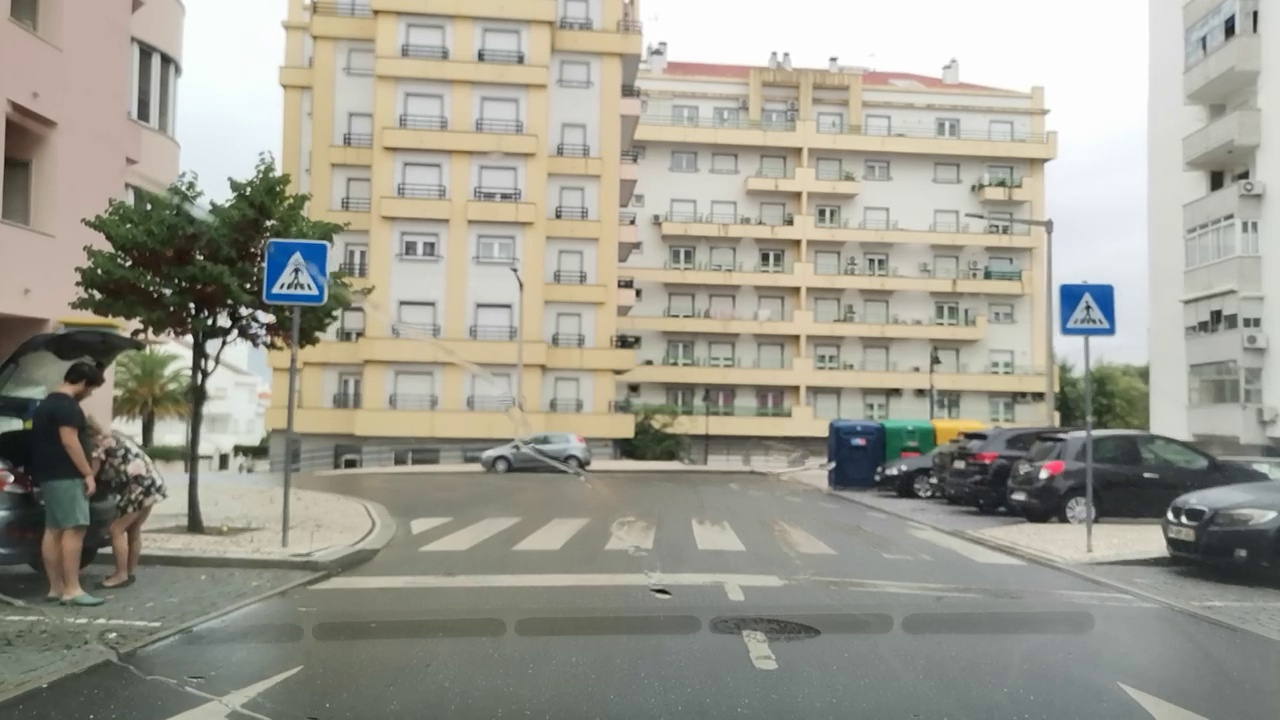Stairs: (391, 512, 1023, 560)
